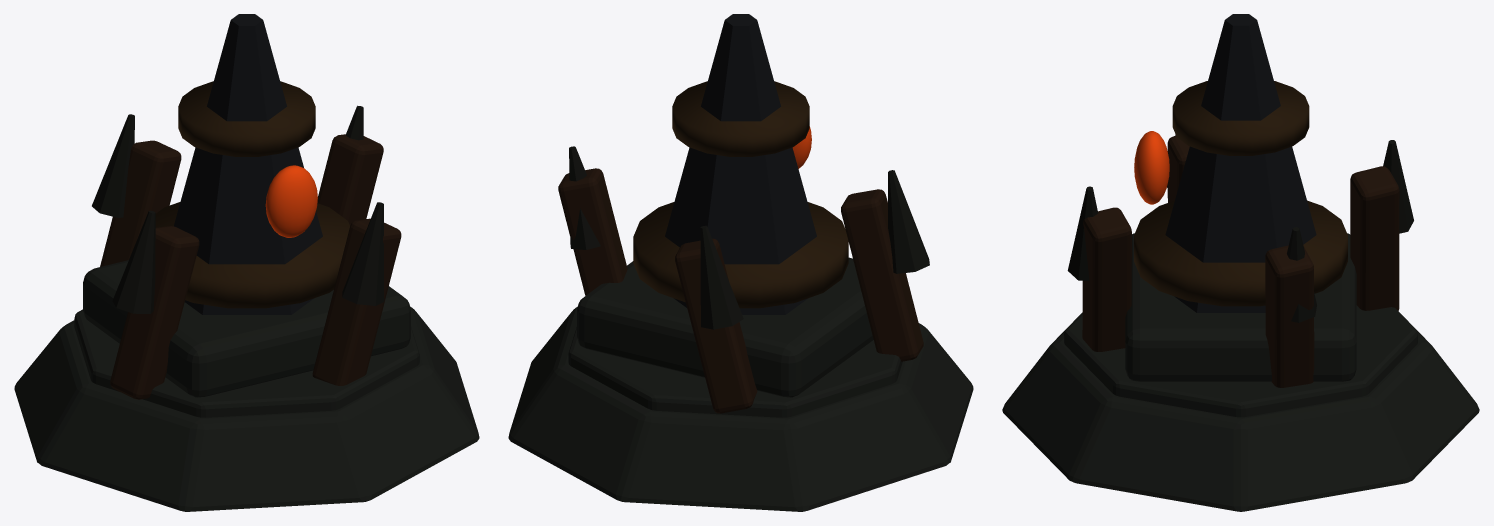
The model's file is TowerCorrupt0.obj.
The picture shows the model from 3 angles, left to right: view 1: azimuth 30°, elevation 25°; view 2: azimuth 150°, elevation 25°; view 3: azimuth 270°, elevation 25°; orthographic projection.
Parts seen in each view (by area): view 1: weathered_stone_dais_lower_course, dark_obelisk_core, blackstone_foot, weathered_stone_dais_upper_course, bronze_binding_ring, oak_ritual_brace.002, bronze_upper_ring, oak_ritual_brace.003, oak_ritual_brace.001, oak_ritual_brace, amber_runic_heart, bone_ward_spike.002 (+2 smaller); view 2: weathered_stone_dais_lower_course, dark_obelisk_core, blackstone_foot, weathered_stone_dais_upper_course, bronze_binding_ring, oak_ritual_brace.002, bronze_upper_ring, oak_ritual_brace.001, oak_ritual_brace, bone_ward_spike.001, bone_ward_spike.002, bone_ward_spike; view 3: weathered_stone_dais_lower_course, dark_obelisk_core, blackstone_foot, weathered_stone_dais_upper_course, bronze_binding_ring, oak_ritual_brace.001, oak_ritual_brace.003, bronze_upper_ring, oak_ritual_brace, amber_runic_heart, bone_ward_spike.003, bone_ward_spike.001 (+2 smaller).
Part boxes in pixels (x1,y1,x2,y2): weathered_stone_dais_lower_course: (14,307,479,511); dark_obelisk_core: (174,14,322,314); blackstone_foot: (83,260,410,397); weathered_stone_dais_upper_course: (74,309,419,417); bronze_binding_ring: (155,202,349,308); oak_ritual_brace.002: (110,226,199,399); bronze_upper_ring: (178,81,315,156); oak_ritual_brace.003: (312,218,401,385); oak_ritual_brace.001: (100,140,181,266); oak_ritual_brace: (317,134,383,225); amber_runic_heart: (265,165,317,237); bone_ward_spike.002: (112,210,155,313); weathered_stone_dais_lower_course: (508,307,973,511); dark_obelisk_core: (665,14,816,314); blackstone_foot: (577,257,873,397); weathered_stone_dais_upper_course: (568,327,902,417); bronze_binding_ring: (633,202,848,308); oak_ritual_brace.002: (841,189,923,361); bronze_upper_ring: (672,81,809,156); oak_ritual_brace.001: (675,238,757,413); oak_ritual_brace: (558,168,627,295); bone_ward_spike.001: (700,225,743,329); bone_ward_spike.002: (888,170,929,273); bone_ward_spike: (569,146,600,249); weathered_stone_dais_lower_course: (1002,315,1479,511); dark_obelisk_core: (1165,14,1316,312); blackstone_foot: (1125,233,1356,381); weathered_stone_dais_upper_course: (1064,305,1417,417); bronze_binding_ring: (1134,200,1347,306); oak_ritual_brace.001: (1350,166,1399,310); oak_ritual_brace.003: (1082,207,1131,351); bronze_upper_ring: (1172,81,1309,155); oak_ritual_brace: (1265,245,1314,387); amber_runic_heart: (1134,131,1169,204); bone_ward_spike.003: (1067,186,1097,280); bone_ward_spike.001: (1383,140,1413,233).
Size of the model in its own units: 1.61 by 1.46 by 1.61.
